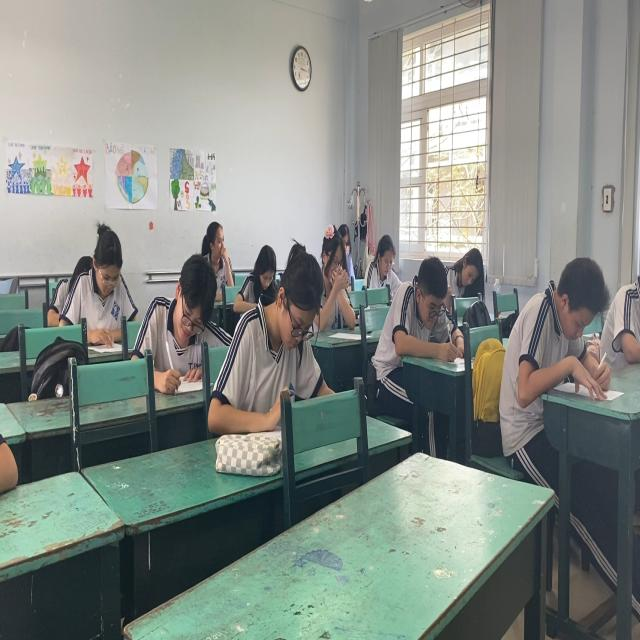not_cheating: (525, 254, 606, 388), (268, 247, 326, 420), (146, 251, 220, 374), (80, 212, 136, 333), (392, 261, 453, 361), (317, 223, 353, 326), (245, 244, 283, 312), (359, 230, 400, 292), (198, 220, 234, 288), (447, 244, 482, 309)
